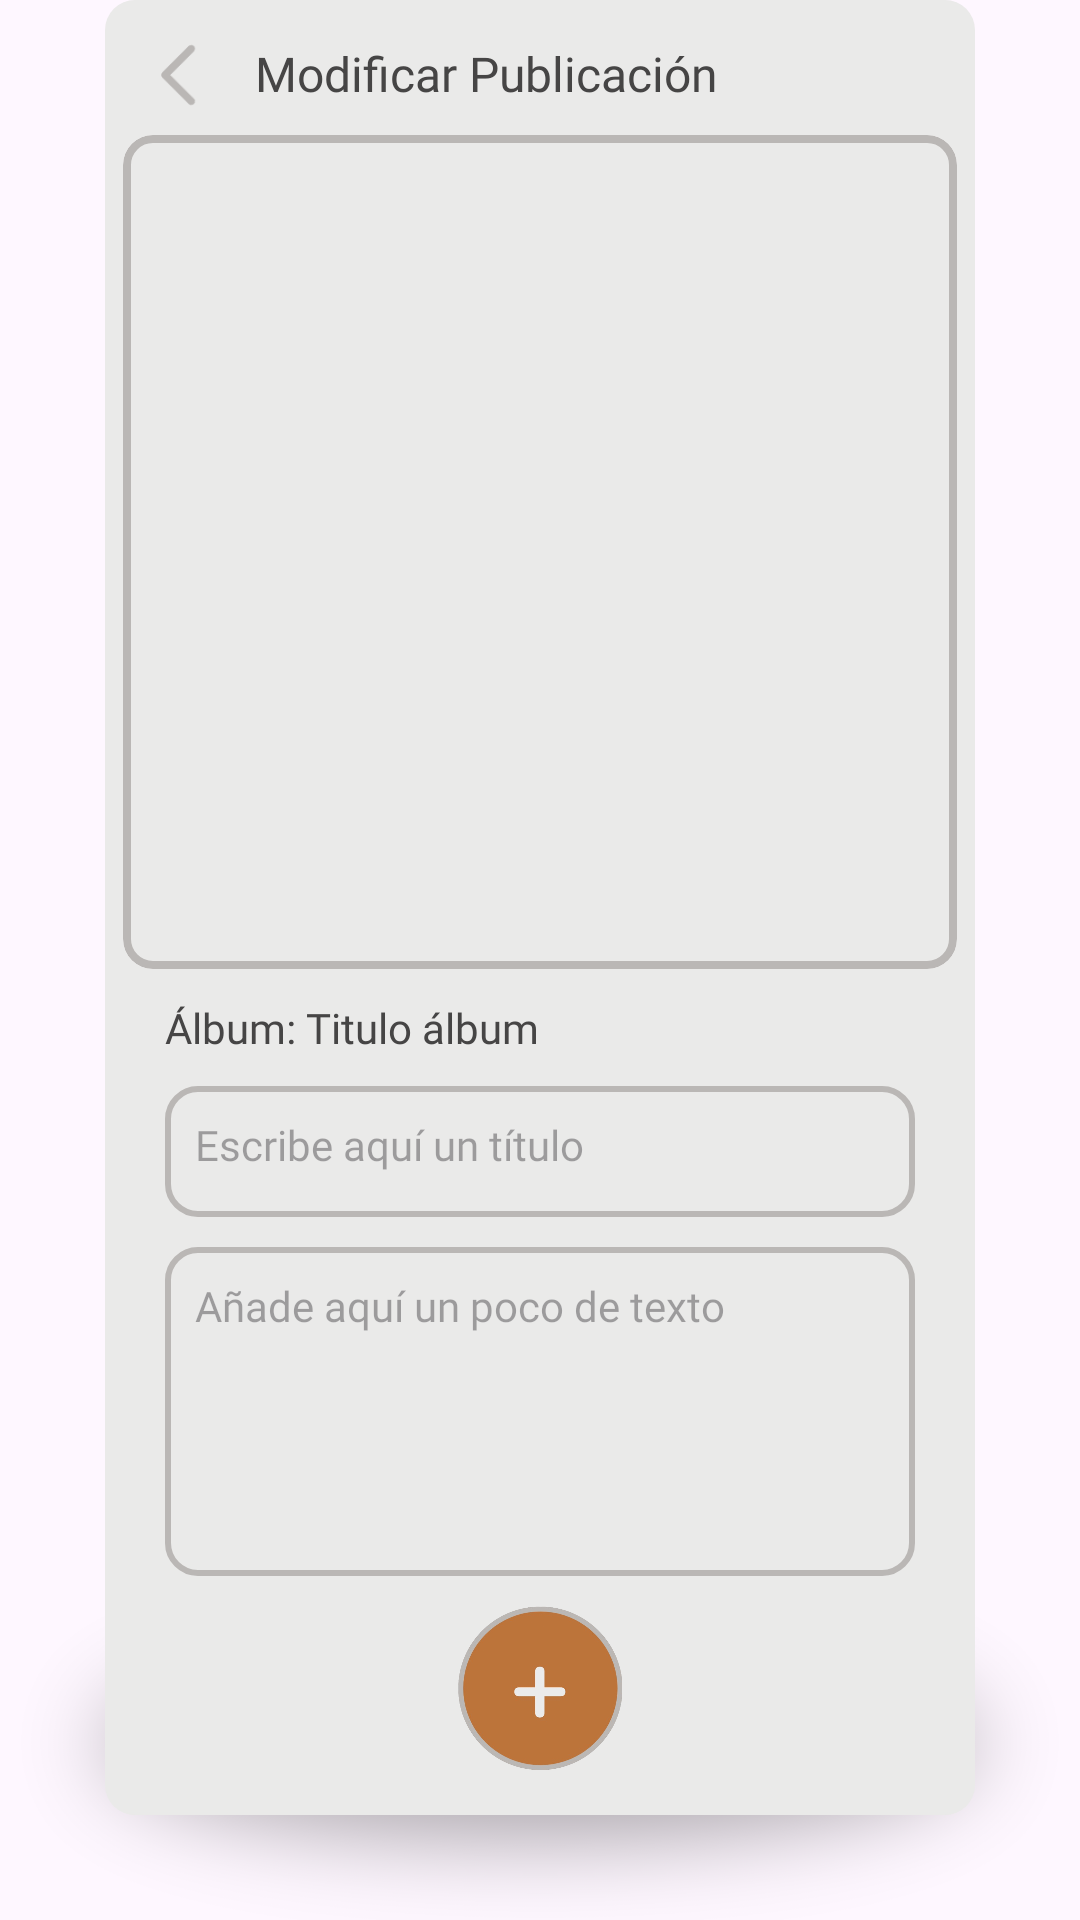

Icon click points for this 1080*1920 phone screenshot, format (x,y):
chevronleftgrey: (178,75)
